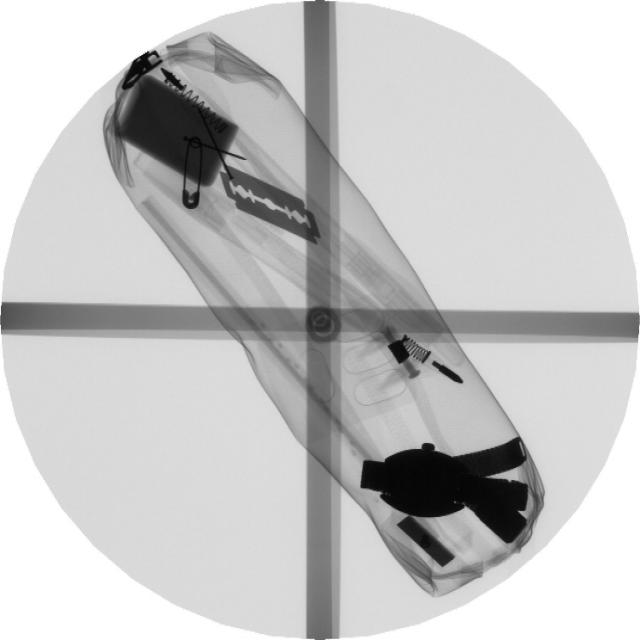BLADE: (218, 161, 322, 246)
